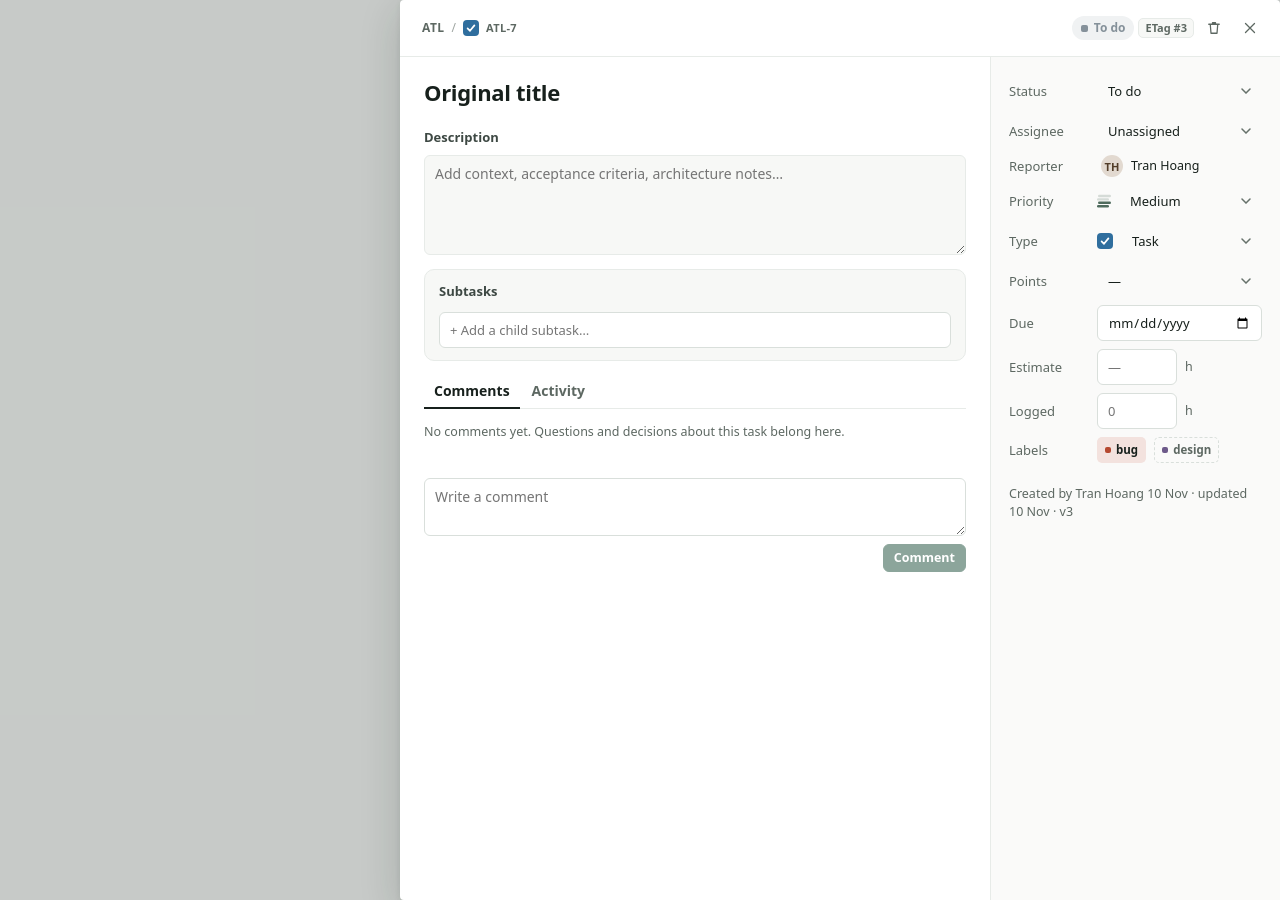
Test: TaskDrawer › saves a field change with the version it last read
Select "Urgent" in the dropdown named "Priority" at (1190, 201), box [1119,185,1262,217]
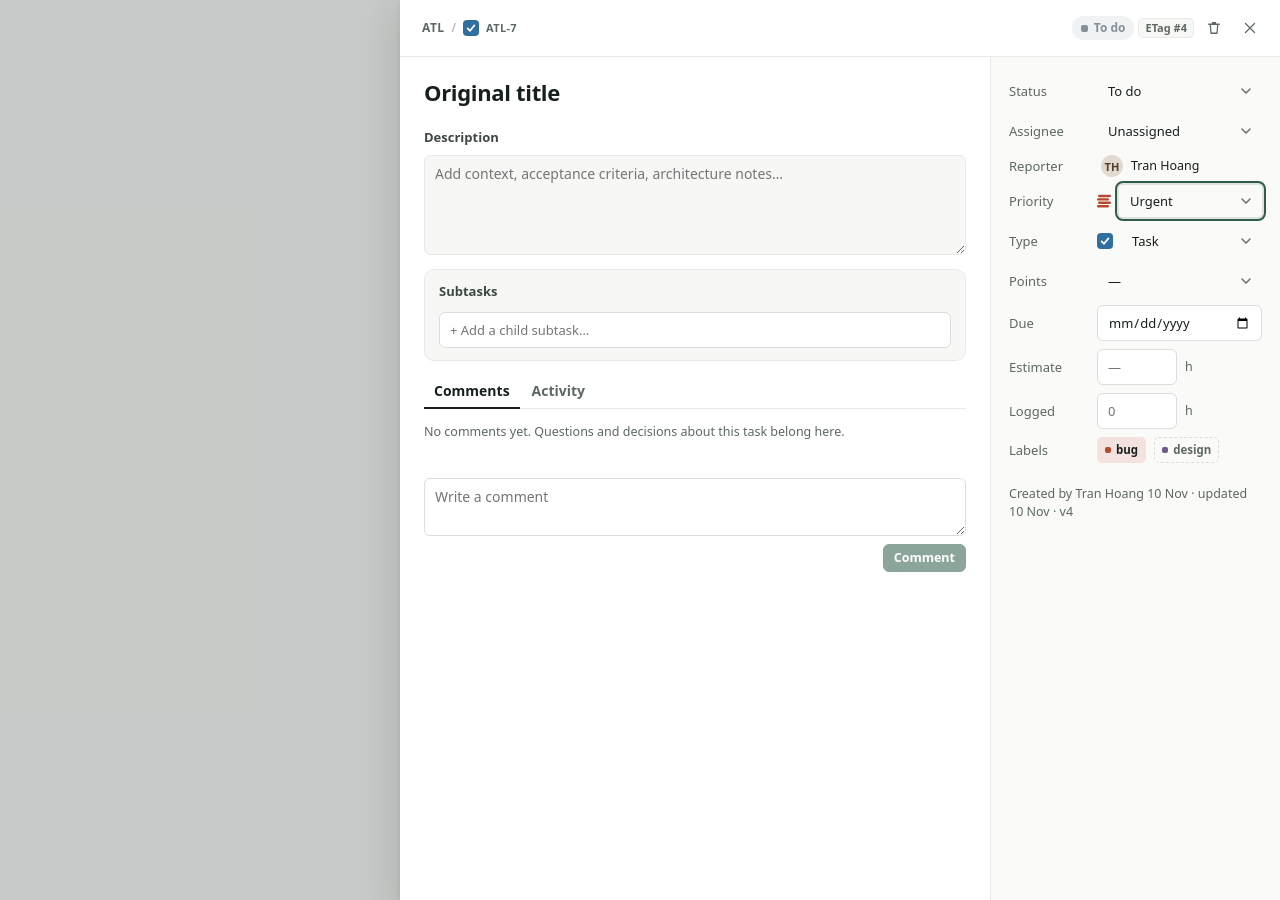
Expected: the text "Created by Tran Hoang 10 Nov · updated 10 Nov · v4" is shown, [1009,485,1262,521]
